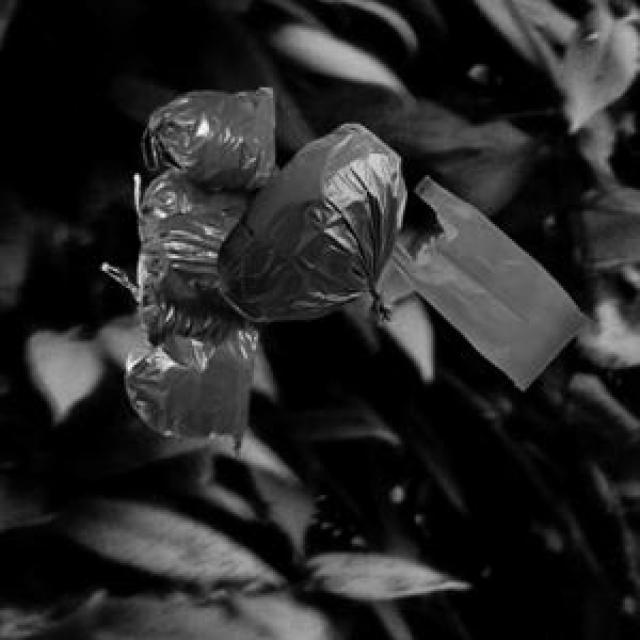miscellaneous trash: (124, 83, 271, 452), (216, 120, 403, 322)
